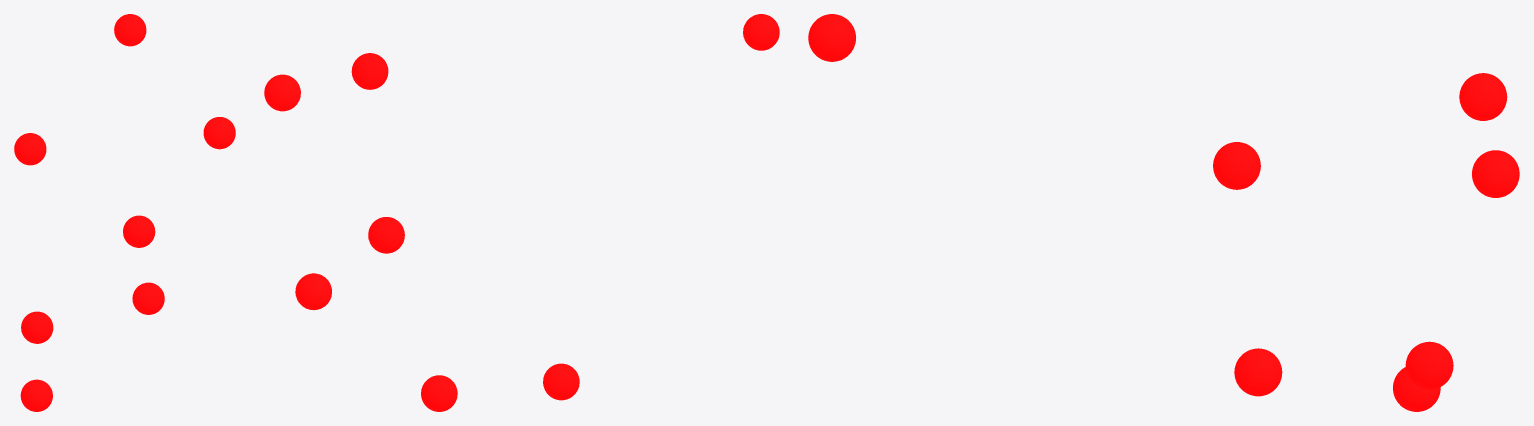
The model's file is PinPoints.glb.
3 views of the same model, side by side, from view 1: azimuth 30°, elevation 25°; view 2: azimuth 150°, elevation 25°; view 3: azimuth 270°, elevation 25° (orthographic). The views are drawn at different scales.
Visible parts, largest first — view 1: Sphere.001, Sphere, Sphere.004, Sphere.003, Sphere.006, Sphere.002, Sphere.005; view 2: Sphere.004, Sphere, Sphere.002, Sphere.005, Sphere.003, Sphere.006, Sphere.001; view 3: Sphere.003, Sphere.006, Sphere.001, Sphere.002, Sphere.005, Sphere, Sphere.004.
Part boxes in pixels (x1,y1,x2,y2): Sphere.001: [14, 133, 46, 165]; Sphere: [132, 282, 164, 314]; Sphere.004: [21, 311, 53, 343]; Sphere.003: [114, 14, 146, 46]; Sphere.006: [20, 379, 52, 411]; Sphere.002: [123, 215, 155, 247]; Sphere.005: [203, 117, 235, 149]; Sphere.004: [421, 375, 457, 411]; Sphere: [743, 14, 779, 50]; Sphere.002: [295, 273, 331, 310]; Sphere.005: [351, 53, 388, 89]; Sphere.003: [264, 74, 300, 111]; Sphere.006: [543, 363, 579, 400]; Sphere.001: [368, 217, 404, 253]; Sphere.003: [1459, 73, 1507, 120]; Sphere.006: [1234, 348, 1282, 396]; Sphere.001: [1472, 150, 1519, 197]; Sphere.002: [1405, 341, 1453, 389]; Sphere.005: [1213, 142, 1260, 189]; Sphere: [808, 14, 855, 61]; Sphere.004: [1393, 367, 1440, 411].
Size of the model in its own units: 0.2101 by 0.2537 by 0.3708.
